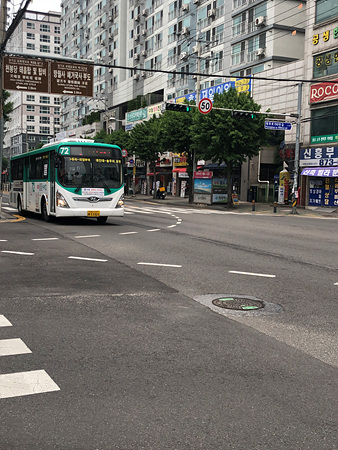bnum: (59, 145, 69, 155)
